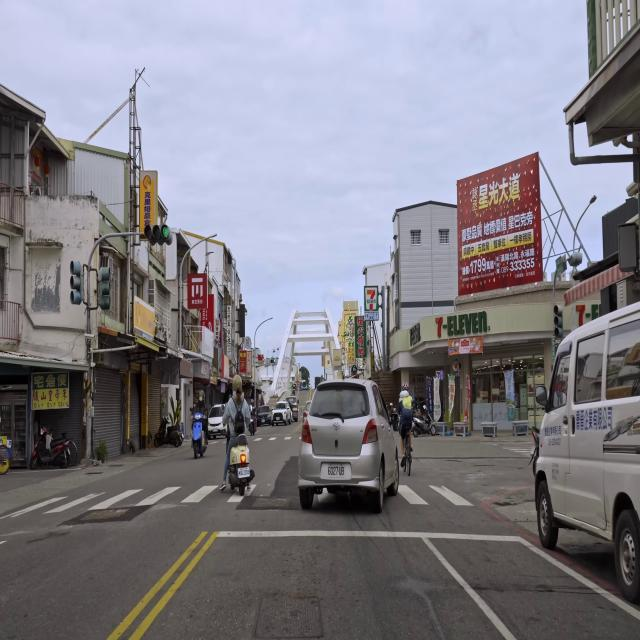green light: (144, 224, 170, 240)
